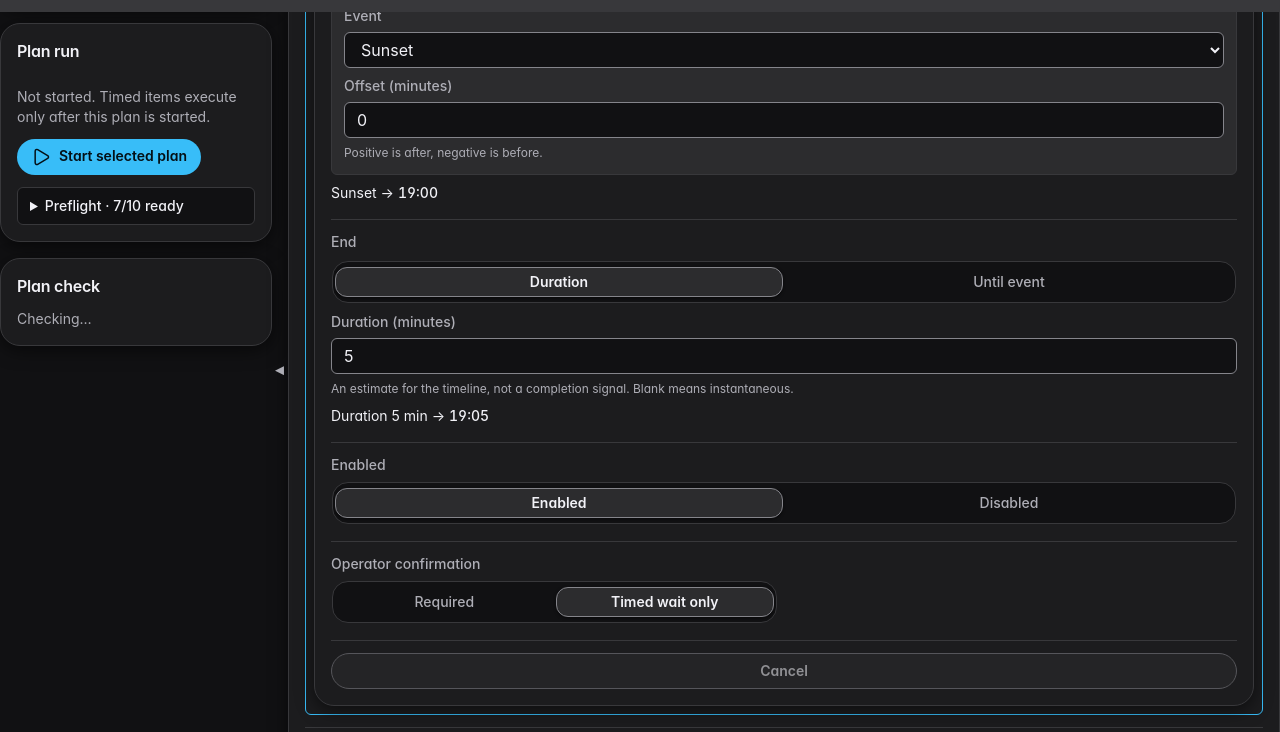
SchedulingTab › shows the backend's actionable reason when a plan cannot start
The image size is (1280, 732).
(page scrolled)
Click the button "Start selected plan".
click(109, 157)  # box [17,139,201,175]
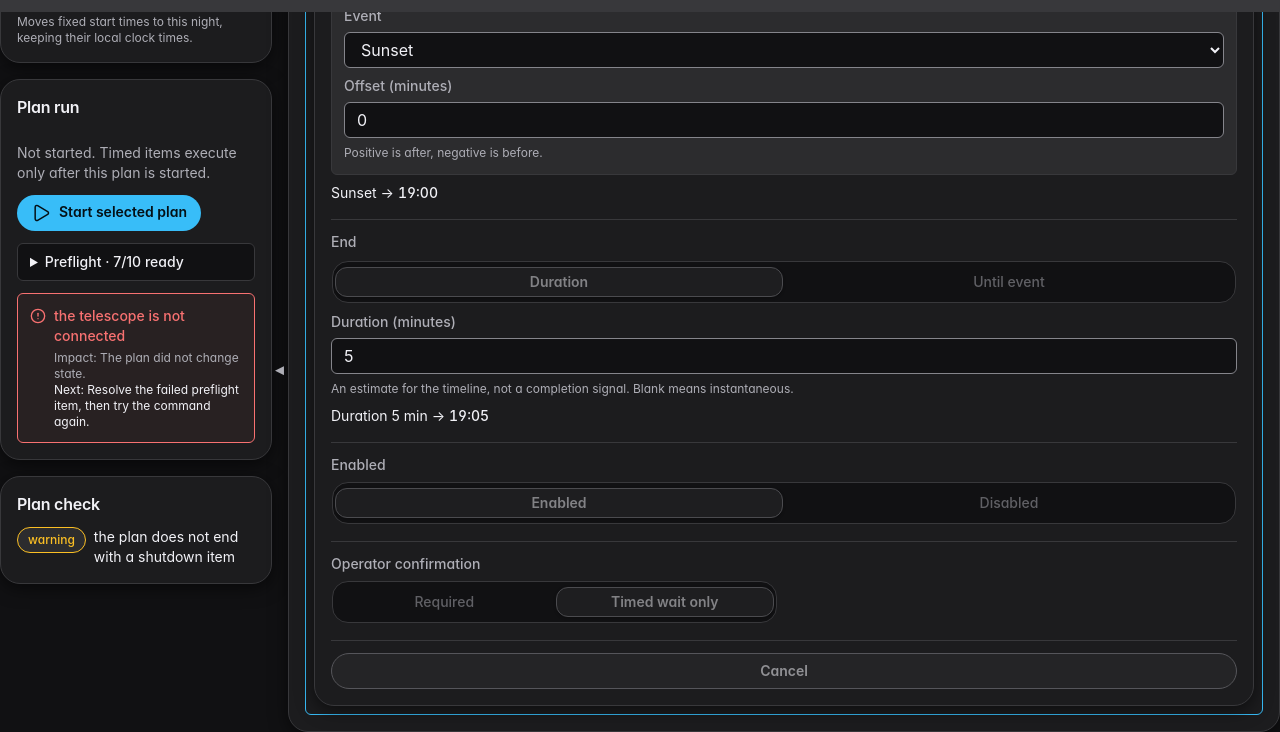
Expected: the message shows "the telescope is not connected", [54,307,185,344]
